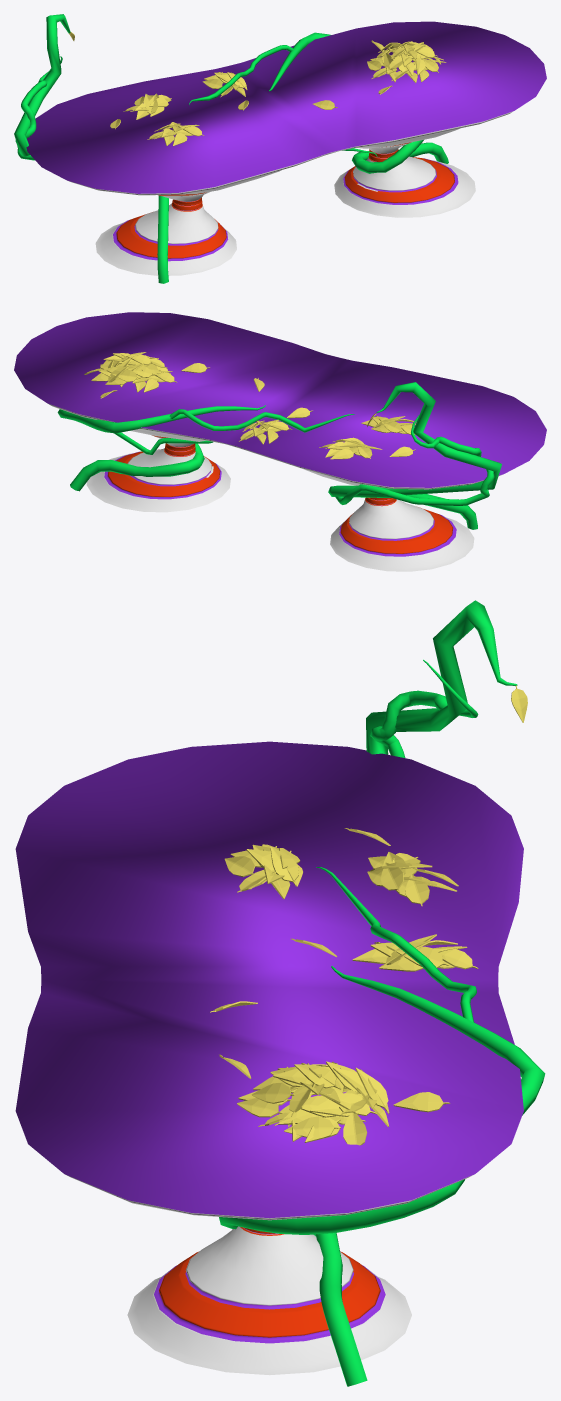
Rendered from MesaMedOrigen.fbx.
3 renders of one model, top to bottom at view 1: azimuth 30°, elevation 25°; view 2: azimuth 150°, elevation 25°; view 3: azimuth 270°, elevation 25°, orthographic. The views are drawn at different scales.
Visible parts, largest first — view 1: MesaMedOrigen; view 2: MesaMedOrigen; view 3: MesaMedOrigen.
Boxes of the visible parts, x1,y1,x2,y2 form: MesaMedOrigen: (14, 14, 546, 283); MesaMedOrigen: (14, 312, 546, 571); MesaMedOrigen: (15, 600, 545, 1386).
Bounding box in the file's own units: 417 × 176 × 196.
